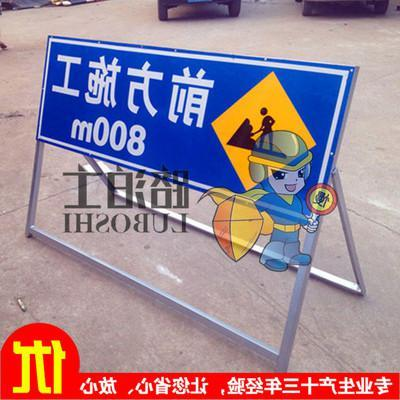sign: (33, 37, 356, 232)
